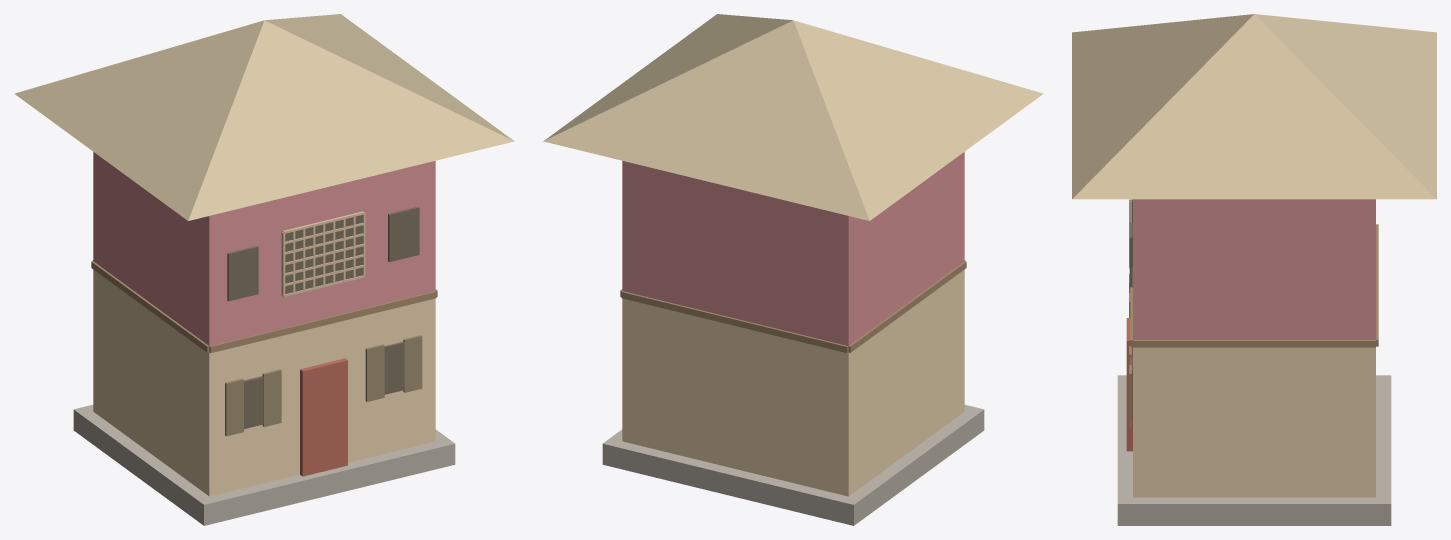
Rendered from Housing_India_02.fbx.
The picture shows the model from 3 angles, left to right: view 1: azimuth 30°, elevation 25°; view 2: azimuth 150°, elevation 25°; view 3: azimuth 270°, elevation 25°; orthographic projection. The views are drawn at different scales.
Parts seen in each view (by area): view 1: Housing_India_02_Mesh; view 2: Housing_India_02_Mesh; view 3: Housing_India_02_Mesh.
Part boxes in pixels (x1=…): Housing_India_02_Mesh: x1=14, y1=14, x2=514, y2=525; Housing_India_02_Mesh: x1=543, y1=14, x2=1043, y2=525; Housing_India_02_Mesh: x1=1072, y1=14, x2=1436, y2=525.
Bounding box in the file's own units: 6.5 × 8.12 × 6.
